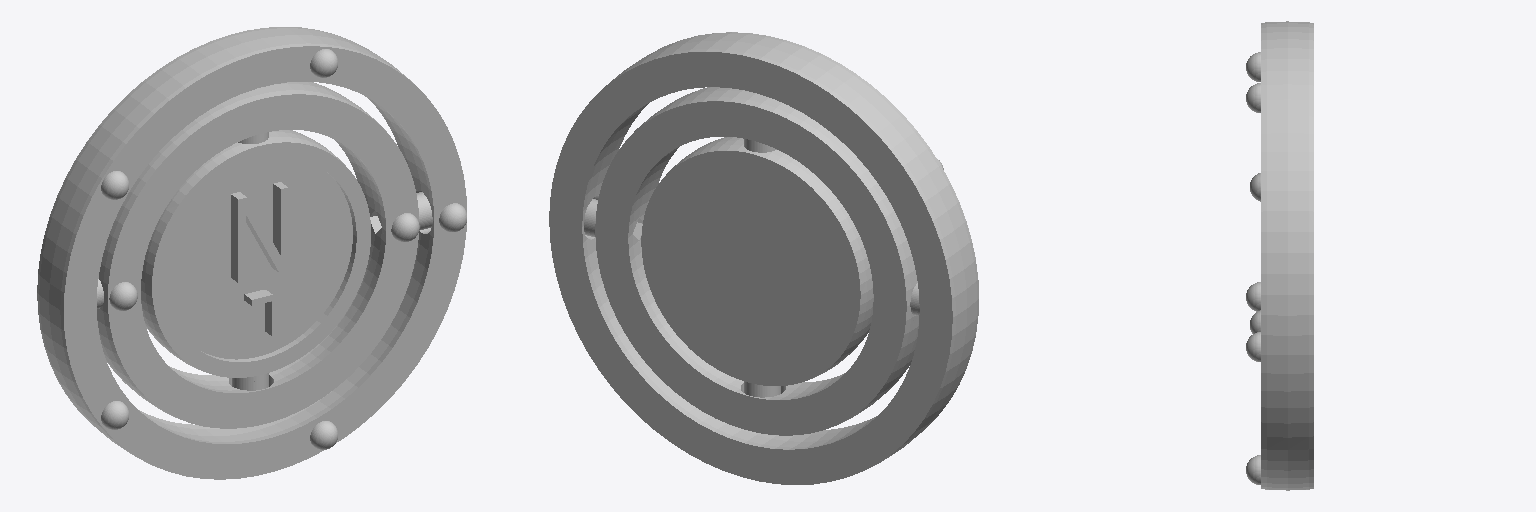
File: 007_-_N_-_Nitrogen.obj
The picture shows the model from 3 angles: view 1: azimuth 30°, elevation 25°; view 2: azimuth 150°, elevation 25°; view 3: azimuth 270°, elevation 25°; orthographic projection.
Visible parts, largest first — view 1: Object.3, Object.1, Object.2; view 2: Object.3, Object.1, Object.2; view 3: Object.3.
Part boxes in pixels (x1,y1,x2,y2): Object.3: (37,27,466,479); Object.1: (141,130,370,390); Object.2: (97,82,432,428); Object.3: (549,32,978,484); Object.1: (641,137,873,397); Object.2: (584,87,919,435); Object.3: (1246,21,1313,490).
Bounding box in the file's own units: 62 × 61.94 × 9.